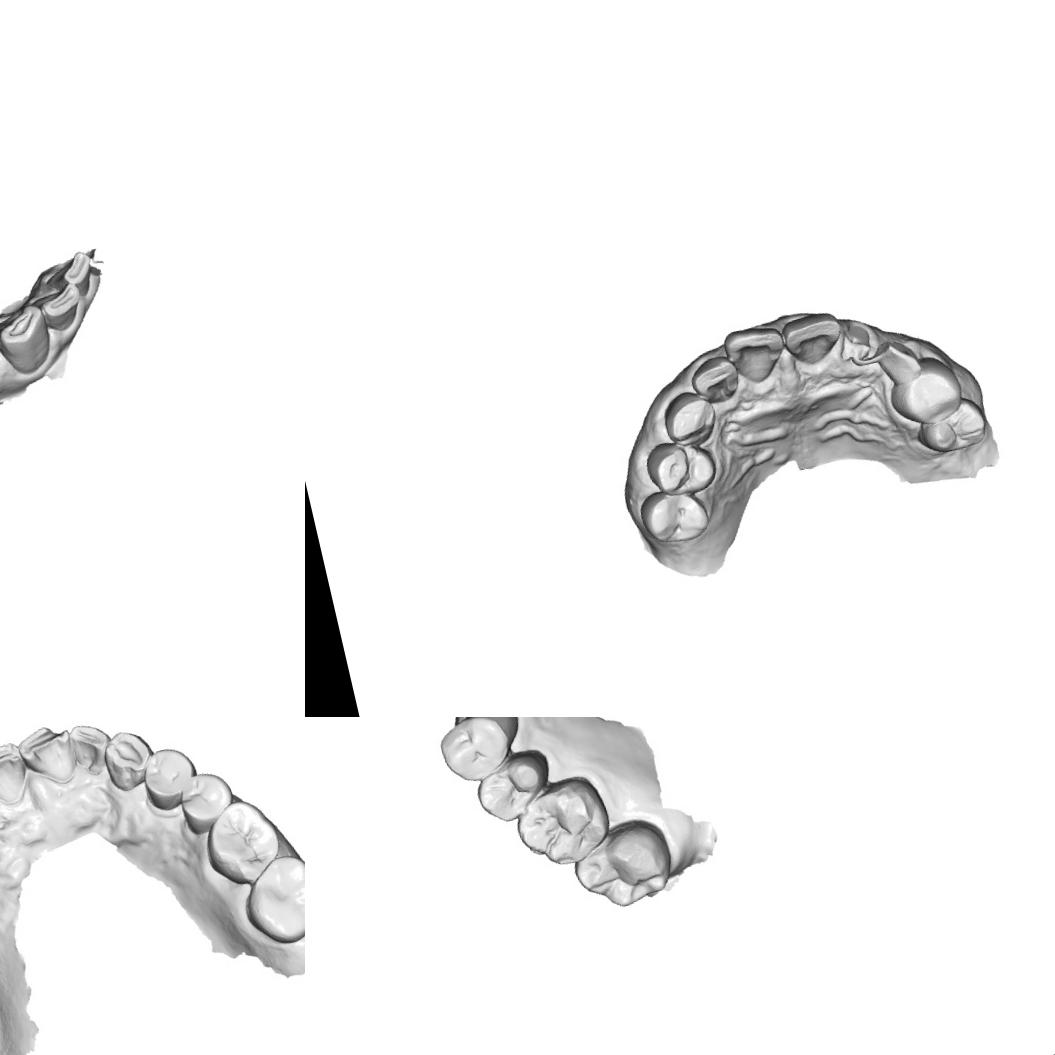canine: (0, 300, 58, 381), (98, 724, 161, 796), (657, 384, 723, 452)
incisor: (720, 319, 793, 390), (14, 720, 81, 792), (779, 306, 849, 370), (40, 246, 100, 306), (686, 351, 744, 409), (65, 717, 118, 780), (34, 279, 89, 335), (0, 736, 33, 811)
molar: (564, 814, 682, 917), (508, 773, 614, 878), (196, 792, 288, 893), (235, 848, 305, 952)
premolar: (429, 717, 532, 790), (882, 348, 968, 433), (468, 751, 554, 831), (633, 479, 716, 552), (642, 430, 722, 503), (910, 392, 993, 462), (172, 766, 242, 840), (136, 740, 204, 814)
